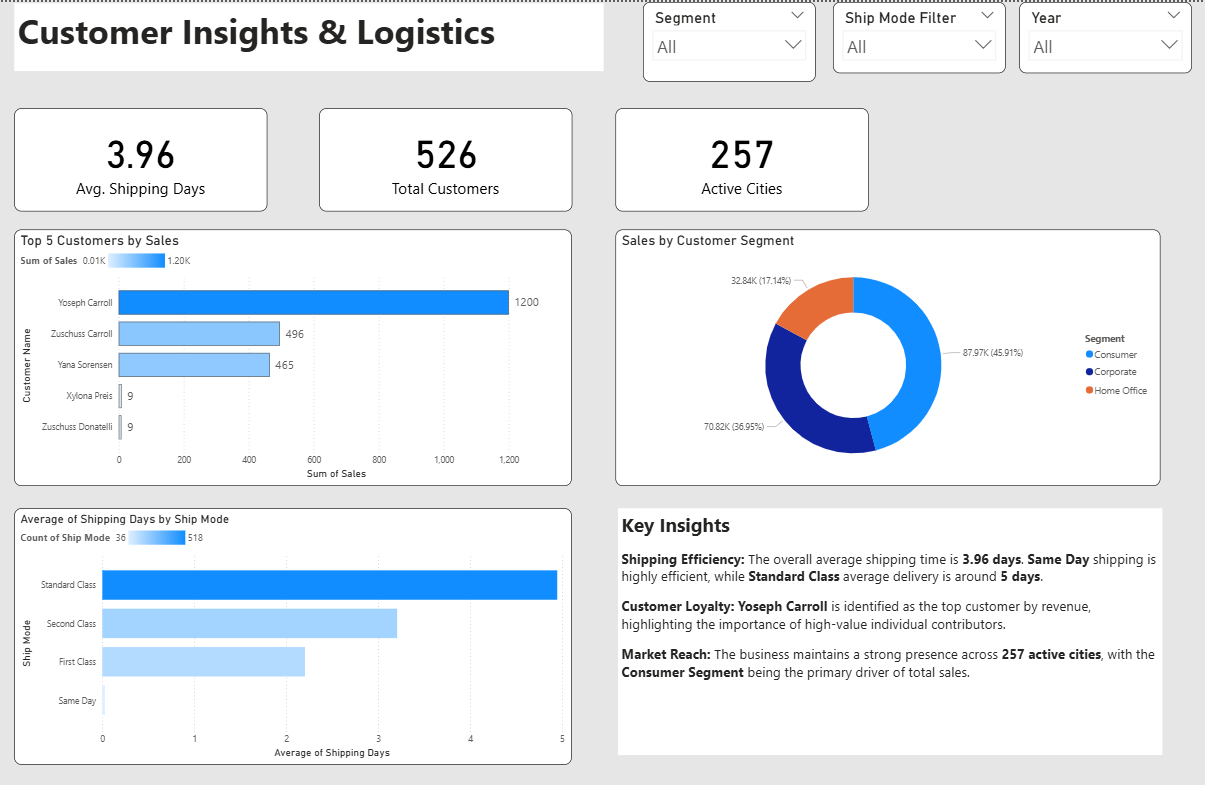

The dashboard page shown, as its layout file describes it:
{"tool":"powerbi","page":{"name":"Customer & Logistics","canvas":[1700,1100],"ordinal":2},"visuals":[{"type":"clusteredBarChart","title":"Top 5 Customers by Sales ","fields":{"Category":["Sample - Superstore.Customer Name"],"Y":["Sum(Sample - Superstore.Sales)"]},"box":[22.5,320,782.5,360],"z":0},{"type":"donutChart","title":"Sales by Customer Segment","fields":{"Category":["Sample - Superstore.Segment"],"Y":["Sum(Sample - Superstore.Sales)"]},"box":[867.5,320,765,360],"z":1000},{"type":"card","fields":{"Values":["Avg(Sample - Superstore.Shipping Days)"]},"box":[22.5,150,355,145],"z":2000},{"type":"textbox","box":[22.5,2.5,827.5,95],"z":3000},{"type":"card","fields":{"Values":["Count(Sample - Superstore.Customer ID)"]},"box":[450,150,355,145],"z":4000},{"type":"card","fields":{"Values":["Count(Sample - Superstore.City)"]},"box":[867.5,150,355,145],"z":5000},{"type":"slicer","fields":{"Values":["Sample - Superstore.Ship Mode"]},"box":[1172.5,0,242.5,100],"z":6000},{"type":"slicer","fields":{"Values":["Sample - Superstore.Ship Date.Variation.Date Hierarchy.Year"]},"box":[1432.5,0,242.5,100],"z":7000},{"type":"slicer","fields":{"Values":["Sample - Superstore.Segment"]},"box":[905,0,242.5,112],"z":8000},{"type":"textbox","box":[870,710,764,346],"z":9000},{"type":"clusteredBarChart","fields":{"Category":["Sample - Superstore.Ship Mode"],"Y":["Avg(Sample - Superstore.Shipping Days)"]},"box":[22,710,782,360],"z":10000}]}

Visuals, with their boxes in screenshot pixels (x1, y1, x2, y2), scaled from the page's 1700x1100 canvas onto the 1205x785 screenshot:
"Top 5 Customers by Sales " clusteredBarChart: select_region(16, 228, 571, 485)
"Sales by Customer Segment" donutChart: select_region(615, 228, 1157, 485)
card - Avg(Sample - Superstore.Shipping Days): select_region(16, 107, 268, 211)
textbox: select_region(16, 2, 602, 70)
card - Count(Sample - Superstore.Customer ID): select_region(319, 107, 571, 211)
card - Count(Sample - Superstore.City): select_region(615, 107, 867, 211)
slicer - Sample - Superstore.Ship Mode: select_region(831, 0, 1003, 71)
slicer - Sample - Superstore.Ship Date.Variation.Date Hierarchy.Year: select_region(1015, 0, 1187, 71)
slicer - Sample - Superstore.Segment: select_region(641, 0, 813, 80)
textbox: select_region(617, 507, 1158, 754)
clusteredBarChart - Sample - Superstore.Ship Mode x Avg(Sample - Superstore.Shipping Days): select_region(16, 507, 570, 764)
